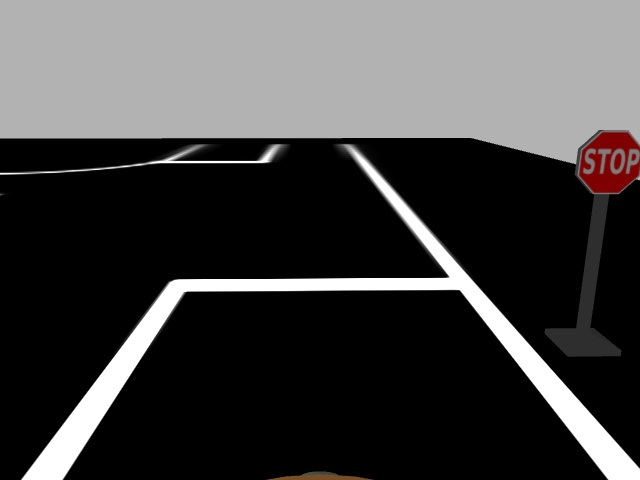stop: (571, 128, 640, 197)
